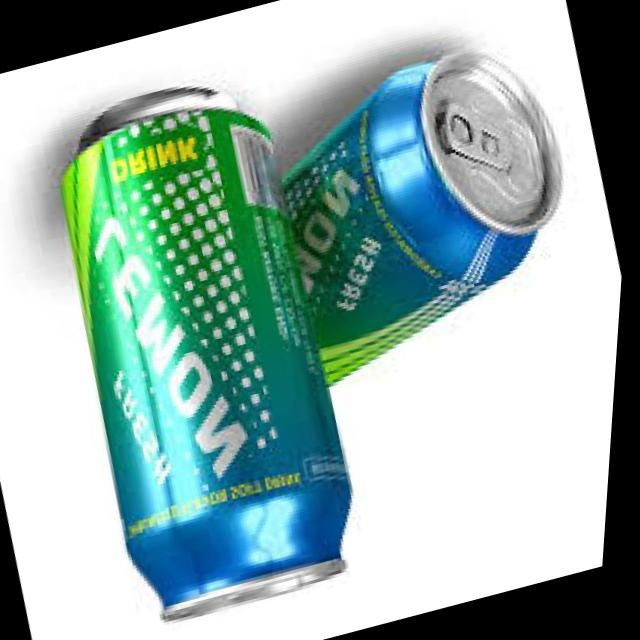metal: (1, 59, 406, 634), (245, 21, 616, 394)
